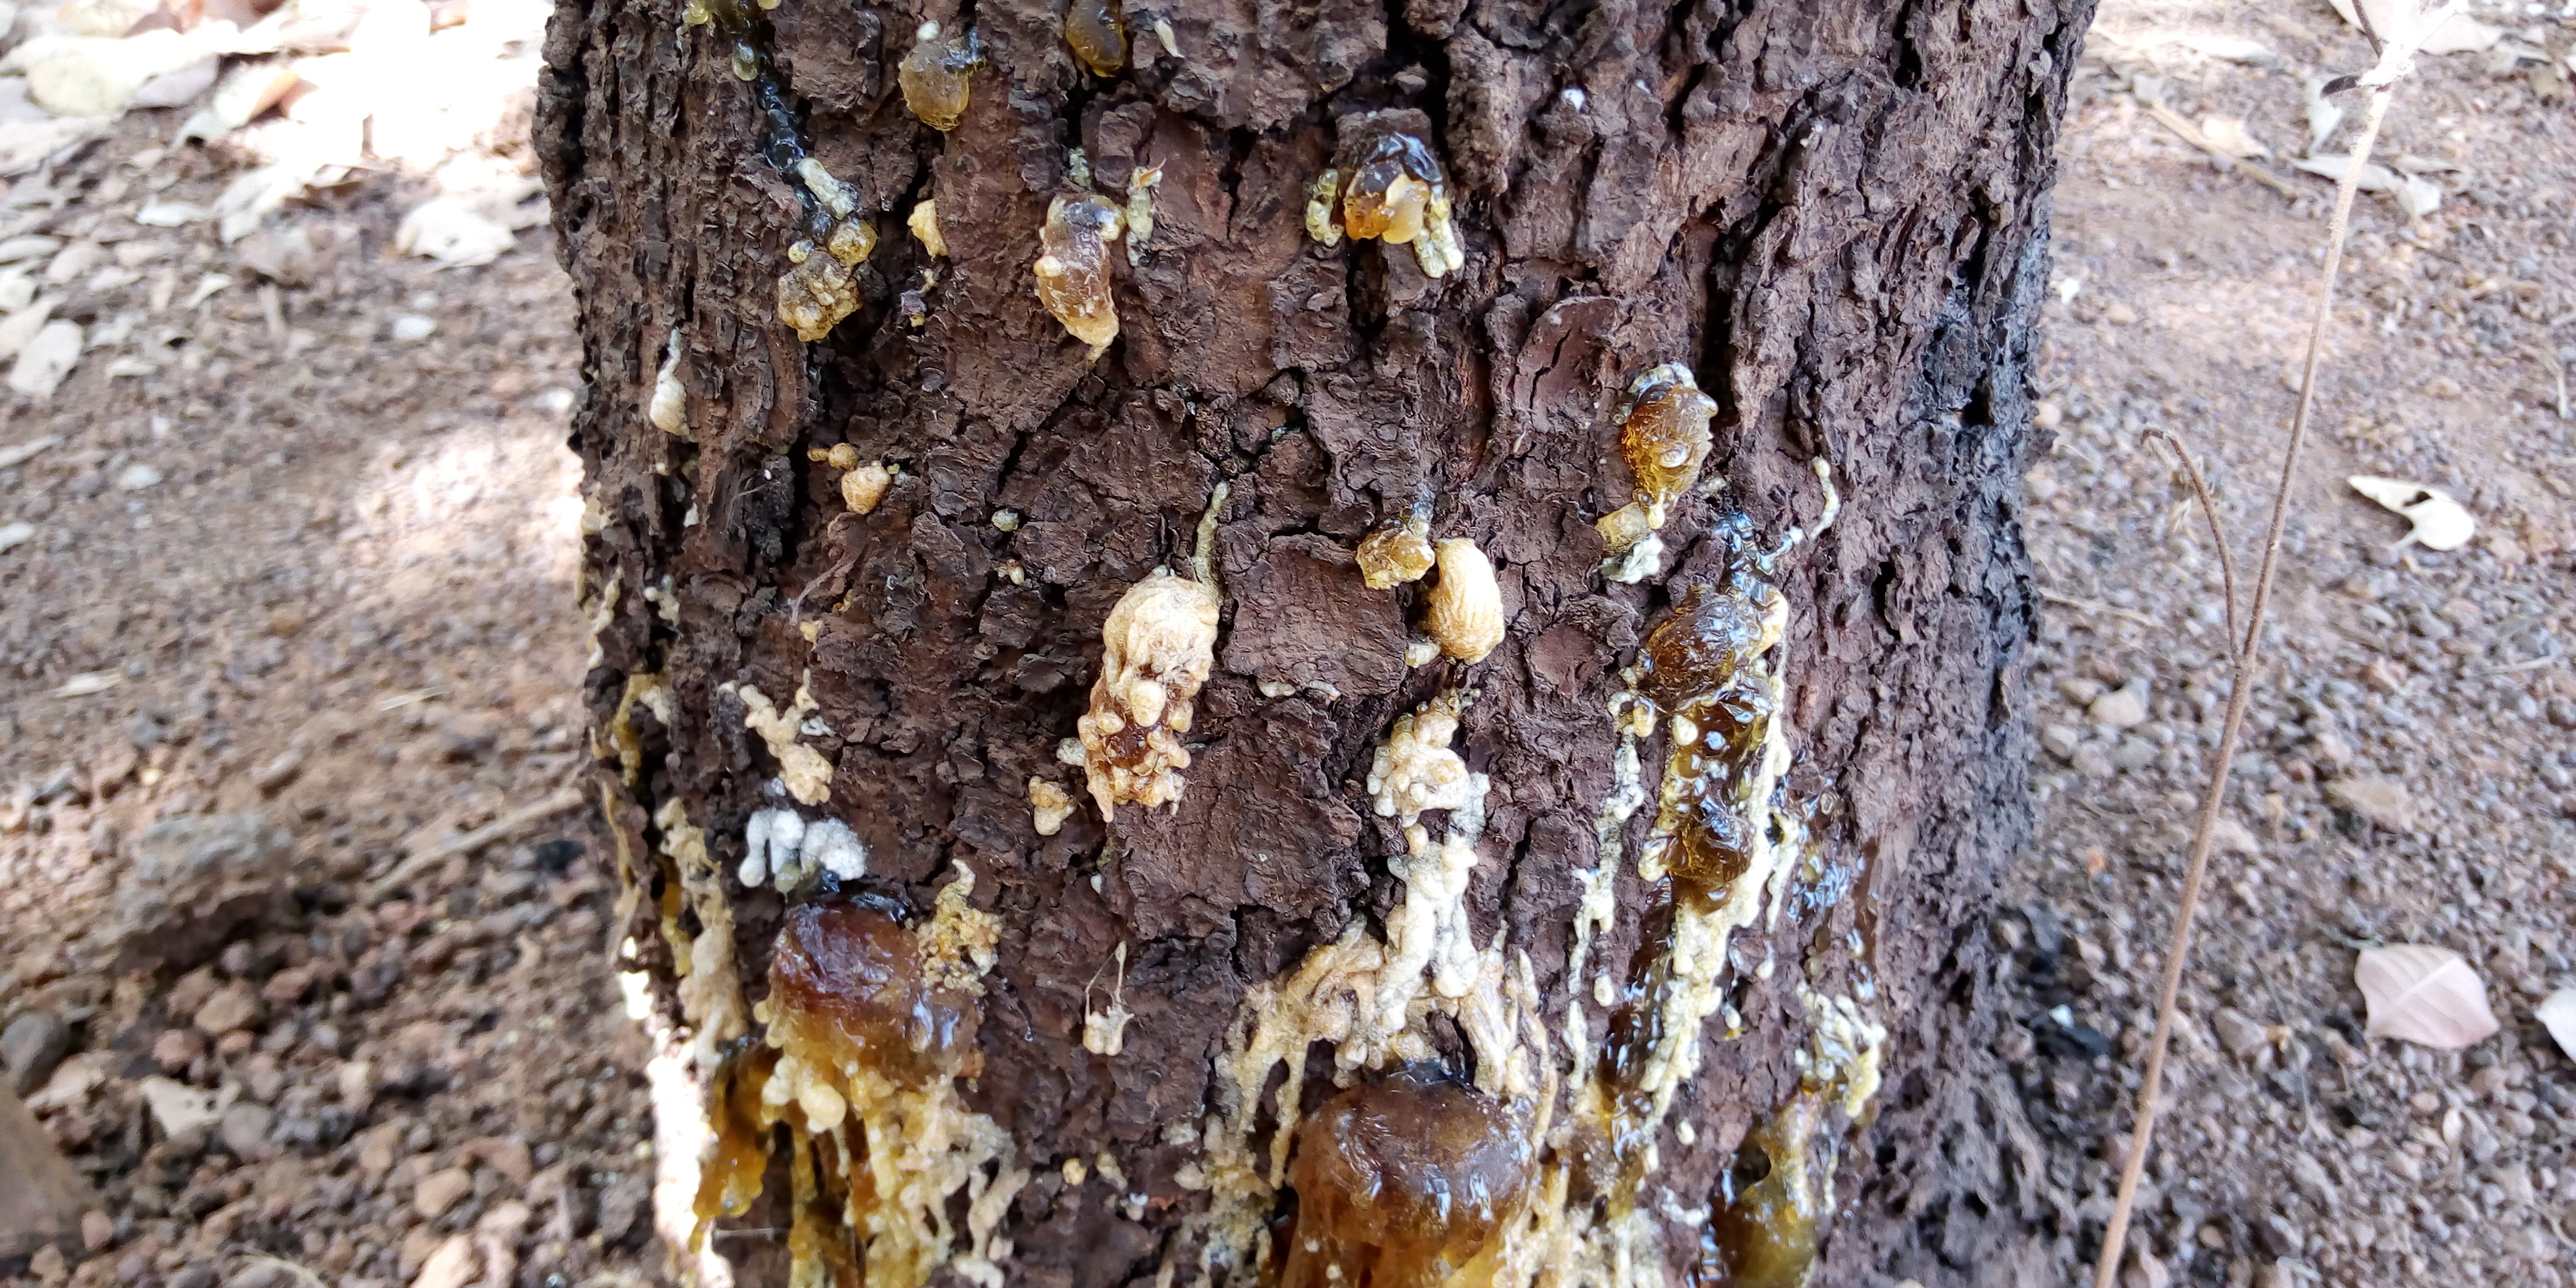Gommose: (1249, 917, 1868, 1288), (575, 861, 1048, 1288), (1602, 375, 1824, 1023), (1324, 141, 1506, 266)
